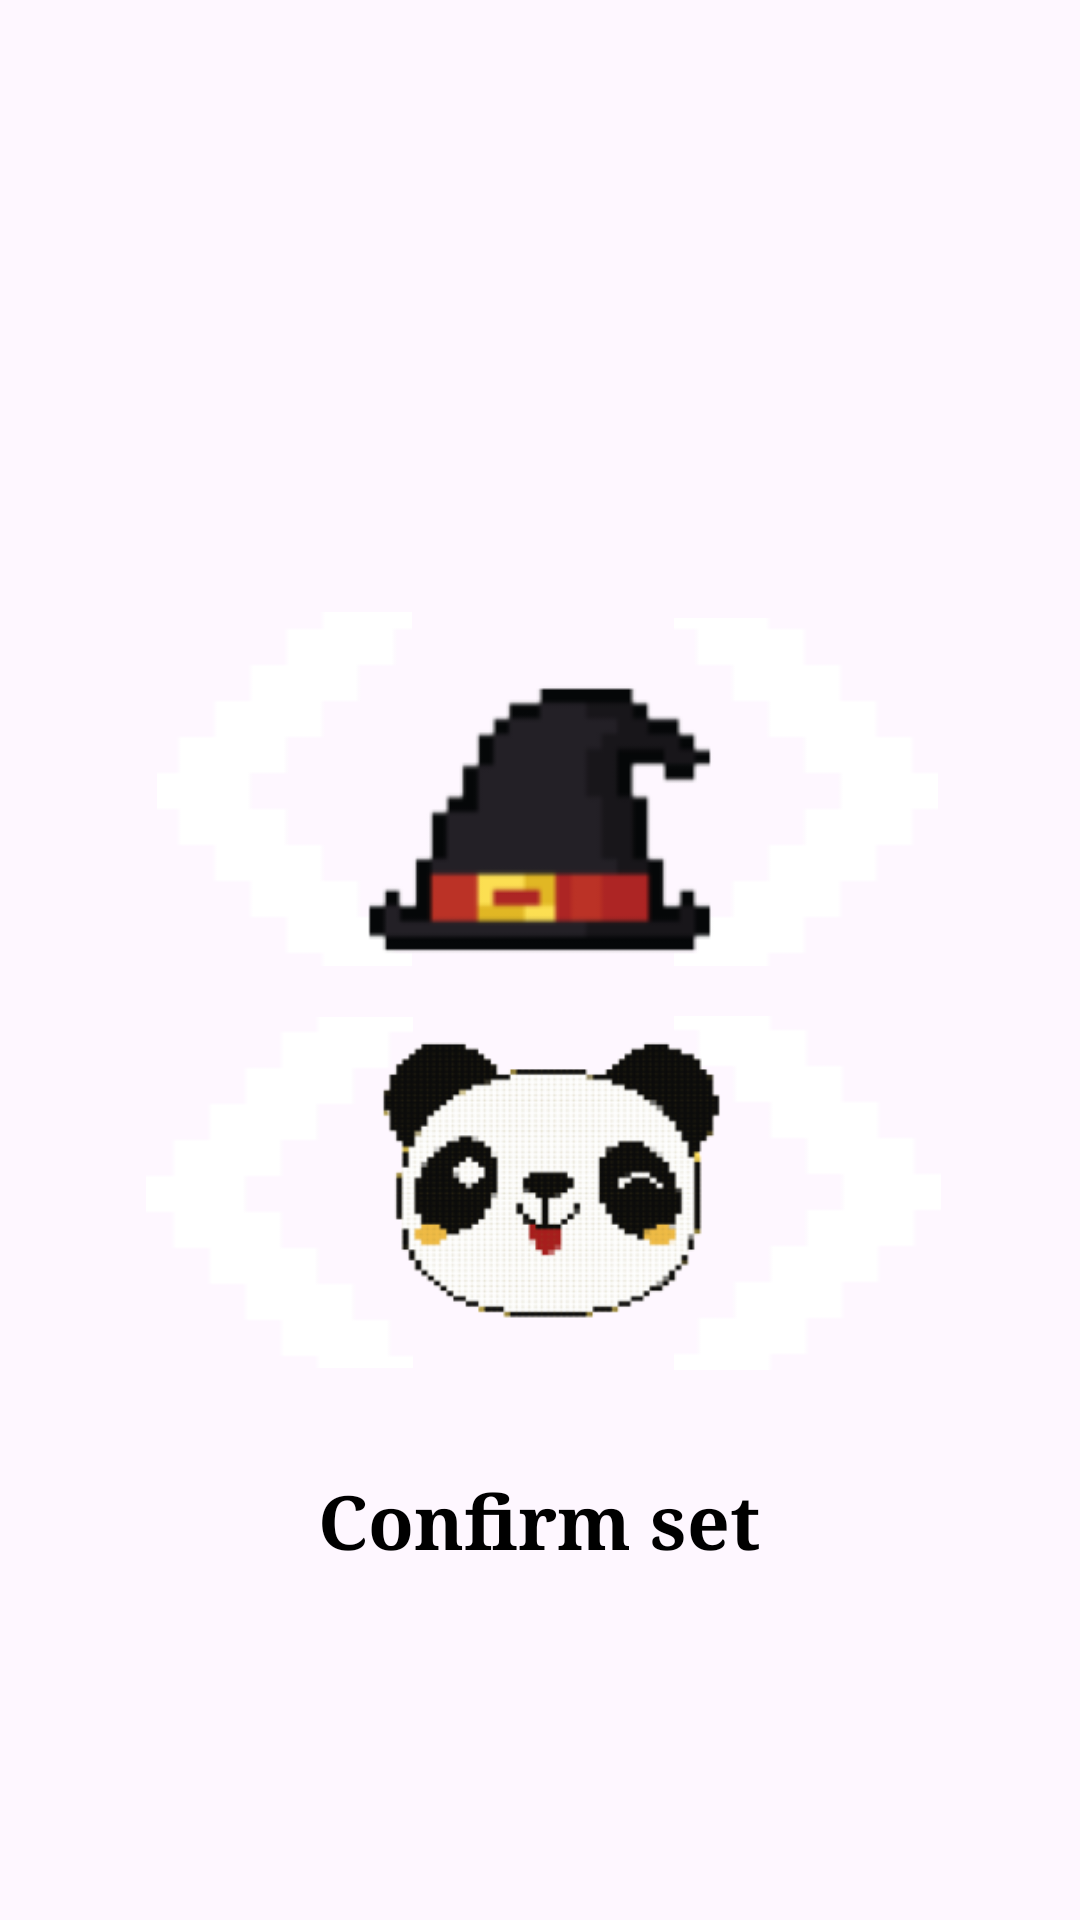

Where to tap for icons on this 1080px x 1920px app screen, as [x,y]:
hattt: [539,819]
headd: [551,1180]
